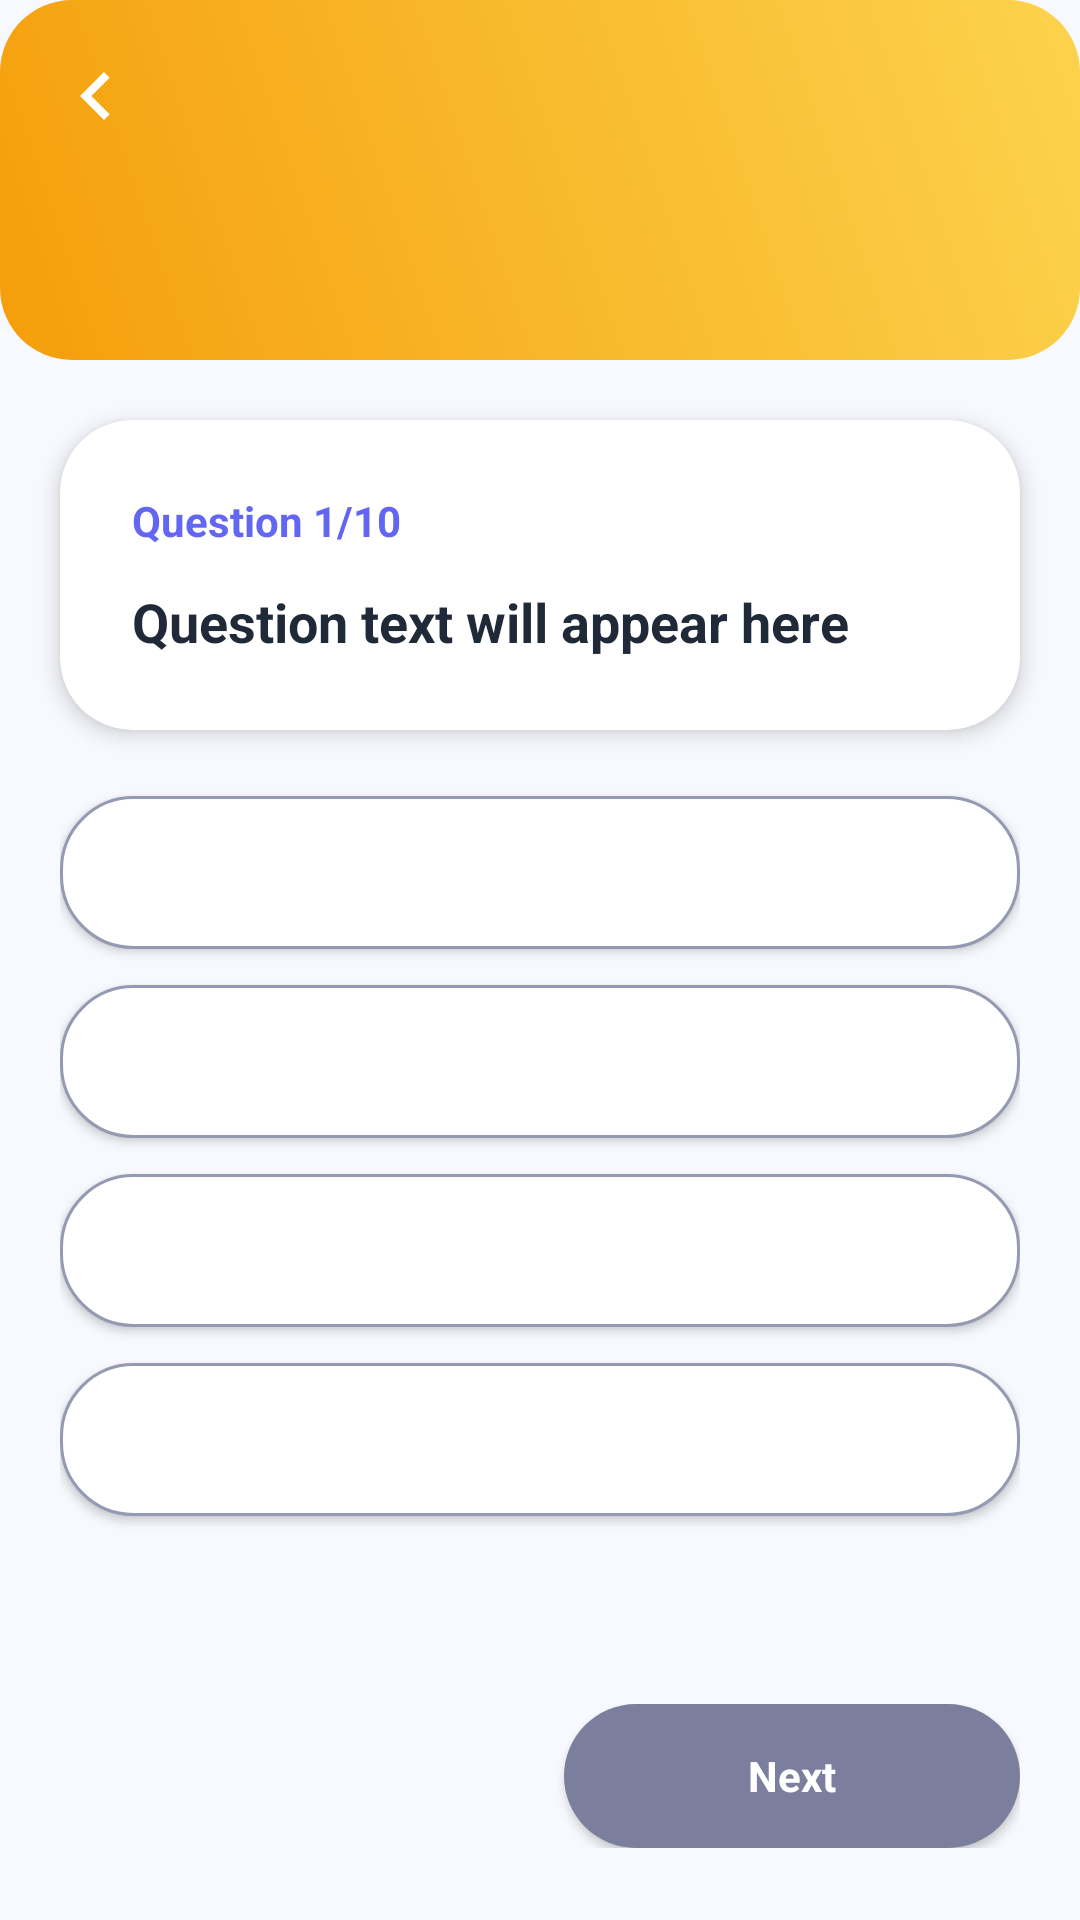

Icons on this 1080×1920 Android screen, each with its box as (x1, y1, x2, y2):
arrow back: (80, 72, 110, 120)
